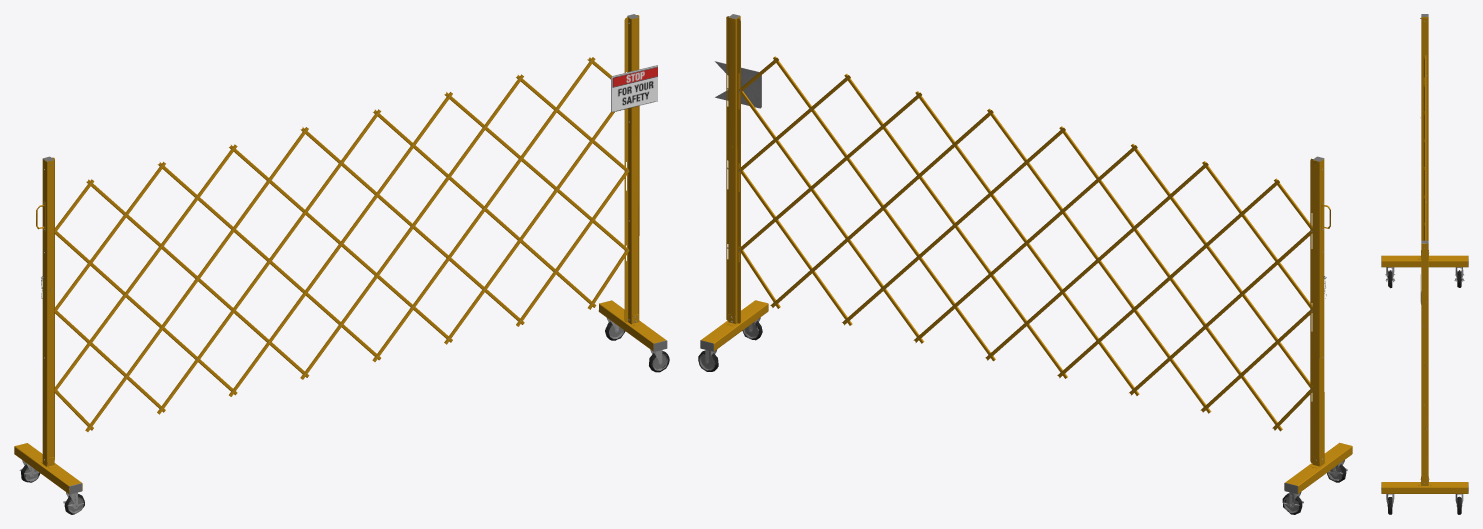
The model's file is shelter_a_accordion_gate.glb.
The picture shows the model from 3 angles, left to right: view 1: azimuth 30°, elevation 25°; view 2: azimuth 150°, elevation 25°; view 3: azimuth 270°, elevation 25°; orthographic projection. The views are drawn at different scales.
Visible parts, largest first — view 1: gate_lattice, gate_post_b, shelter_a_accordion_gate; view 2: gate_lattice, gate_post_b, shelter_a_accordion_gate; view 3: gate_post_b, shelter_a_accordion_gate, gate_lattice.
Boxes of the visible parts, <box> form: gate_lattice: <box>54,57,629,431</box>; gate_post_b: <box>598,14,669,372</box>; shelter_a_accordion_gate: <box>14,156,84,514</box>; gate_lattice: <box>739,56,1312,431</box>; gate_post_b: <box>698,14,768,371</box>; shelter_a_accordion_gate: <box>1282,156,1352,514</box>; gate_post_b: <box>1381,240,1468,514</box>; shelter_a_accordion_gate: <box>1381,14,1468,288</box>; gate_lattice: <box>1420,55,1426,302</box>.
Bounding box in the file's own units: 3.16 × 1.66 × 0.4866.
Materials: 5 (3 with a texture image).
